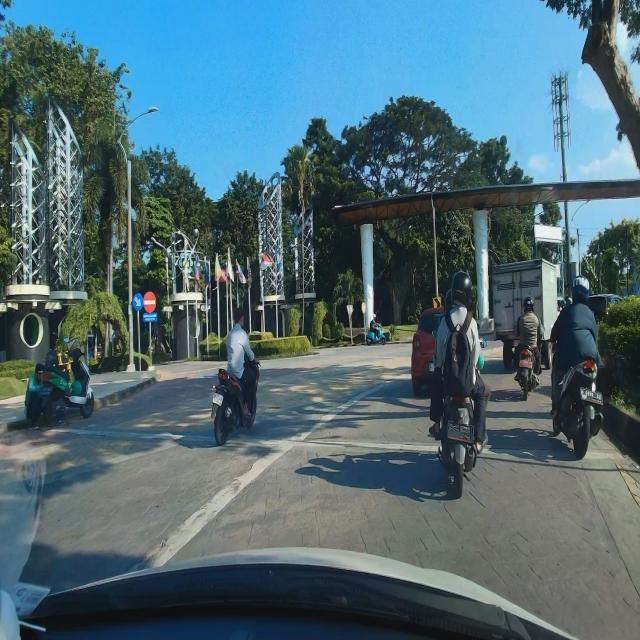car: (410, 303, 476, 397)
truck: (490, 255, 574, 372)
